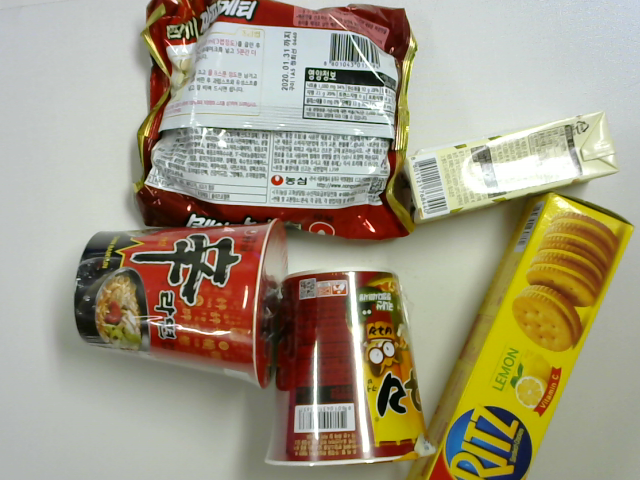99.89_Soymilk: (409, 106, 625, 230)
Raccoon: (267, 270, 441, 464)
Ritz_Remon_96g: (421, 192, 629, 480)
Sichuan_Chapaghetti: (133, 6, 423, 244)
Sinramen_small: (75, 216, 295, 380)
